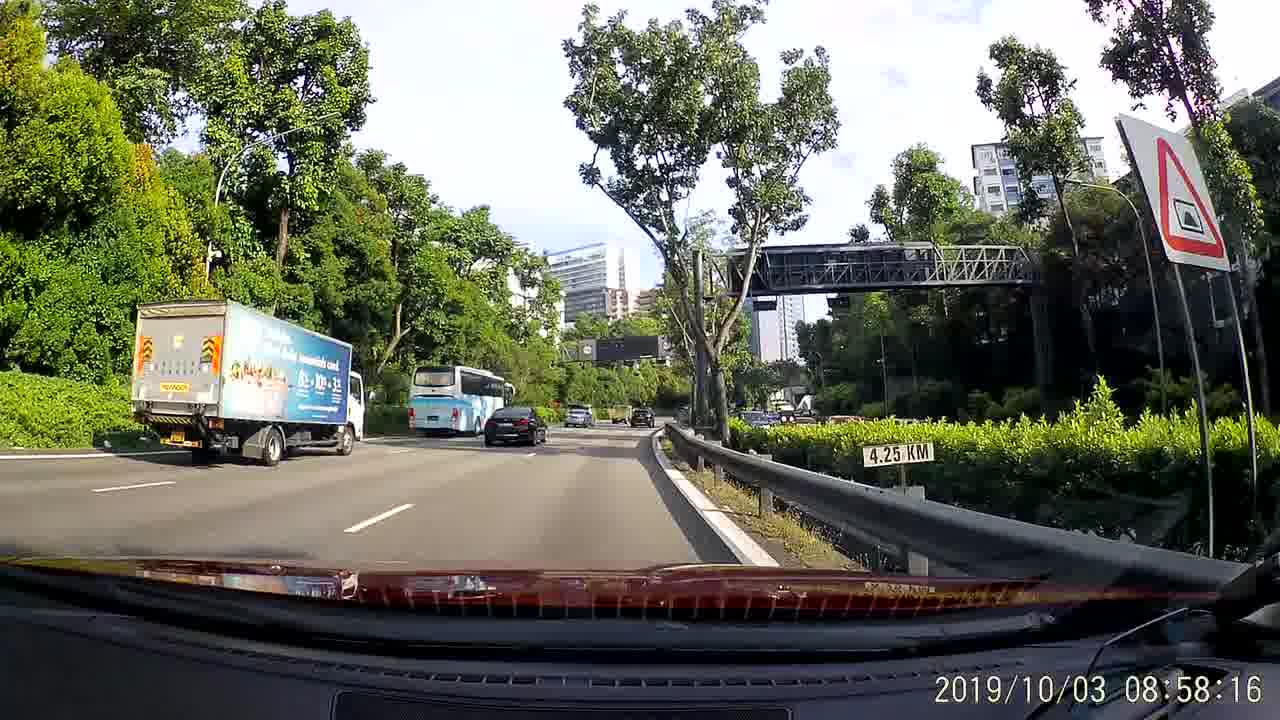bus: (403, 362, 519, 438)
car: (483, 403, 550, 448), (564, 403, 594, 428), (628, 406, 657, 431), (735, 411, 772, 430)
